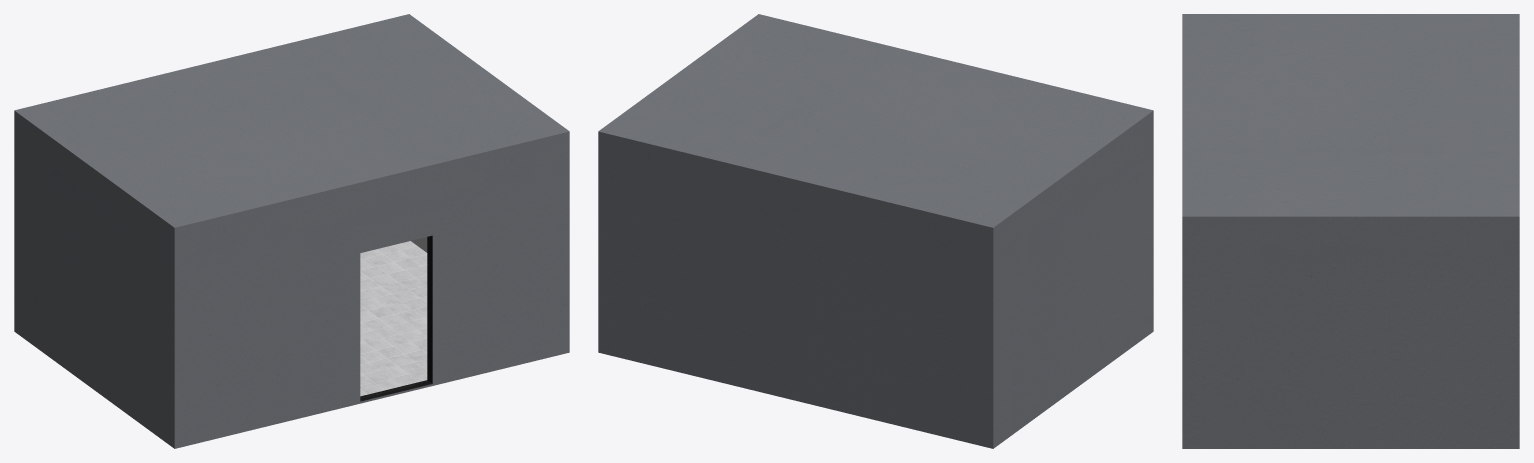
Rendered from Bathroom02.FBX.
3 views of the same model, side by side, from view 1: azimuth 30°, elevation 25°; view 2: azimuth 150°, elevation 25°; view 3: azimuth 270°, elevation 25° (orthographic). The views are drawn at different scales.
Visible parts, largest first — view 1: Bathroom02; view 2: Bathroom02; view 3: Bathroom02.
Boxes of the visible parts, <box> form: Bathroom02: <box>14,14,569,448</box>; Bathroom02: <box>598,14,1153,448</box>; Bathroom02: <box>1182,14,1519,448</box>.
Bounding box in the file's own units: 289 × 154 × 203.
